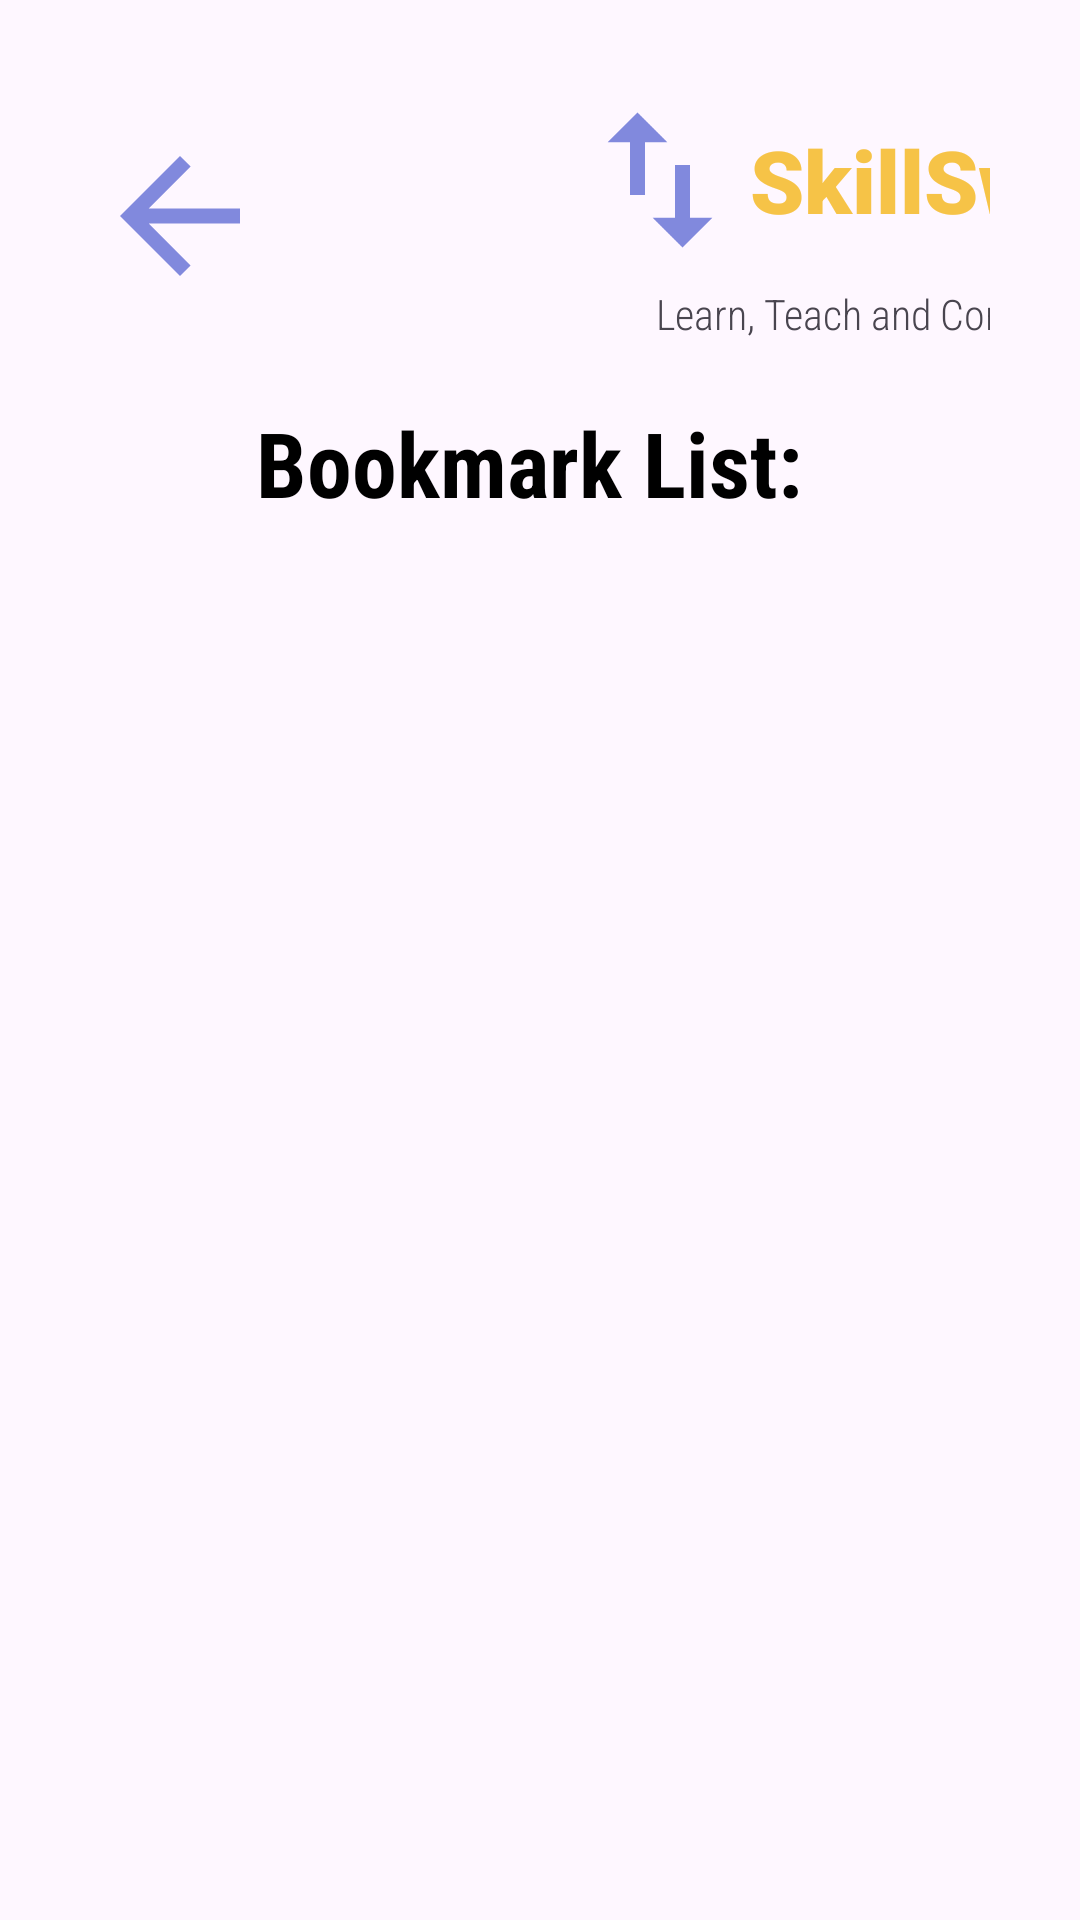

Where to tap for icons on this 1080 x 1920 app screen, as point (x, y):
arrow back: point (180, 216)
swap vert: point (660, 180)
